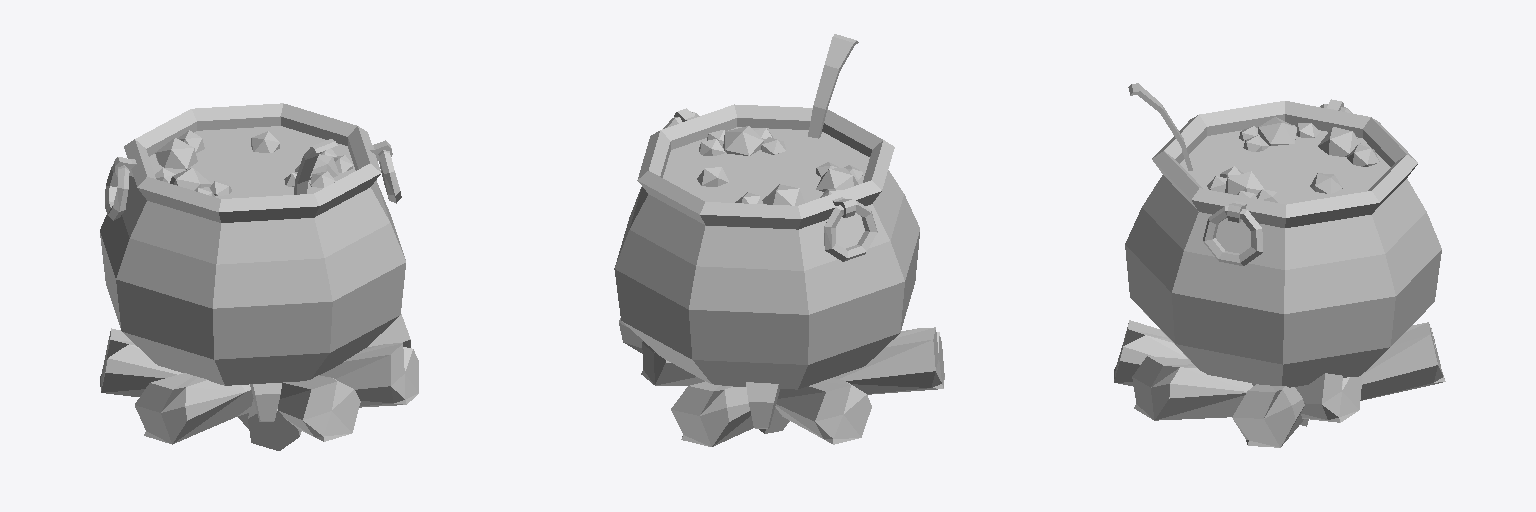
File: cauldron.obj
3 renders of one model, left to right at view 1: azimuth 30°, elevation 25°; view 2: azimuth 150°, elevation 25°; view 3: azimuth 270°, elevation 25°, orthographic.
Visible parts, largest first — view 1: obj1, obj4, obj6, obj5, obj3, obj8, obj2, obj7; view 2: obj1, obj4, obj3, obj9, obj2, obj8, obj7; view 3: obj1, obj6, obj9, obj7, obj8, obj5, obj2.
Part boxes in pixels (x1,y1,x2,y2): obj1: (100, 103, 405, 421); obj4: (135, 373, 253, 444); obj6: (320, 343, 418, 407); obj5: (278, 375, 360, 441); obj3: (100, 328, 182, 396); obj8: (248, 399, 301, 450); obj2: (294, 139, 337, 194); obj7: (368, 314, 410, 347); obj1: (614, 104, 919, 428); obj4: (833, 327, 944, 394); obj3: (775, 378, 871, 444); obj9: (671, 381, 753, 446); obj2: (808, 34, 858, 138); obj8: (641, 341, 704, 385); obj7: (619, 318, 789, 433); obj1: (1125, 99, 1441, 387); obj6: (1132, 356, 1252, 420); obj9: (1360, 322, 1445, 400); obj7: (1232, 384, 1304, 447); obj8: (1252, 373, 1362, 422); obj5: (1114, 320, 1308, 426); obj2: (1128, 83, 1192, 170).
Size of the model in its own units: 1.18 by 1.3 by 1.17.